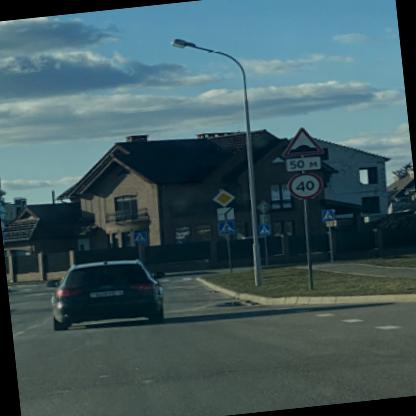crosswalk: (316, 205, 335, 221), (215, 219, 233, 234), (130, 230, 147, 244), (256, 220, 270, 235)
speedlimit: (284, 170, 320, 199)
